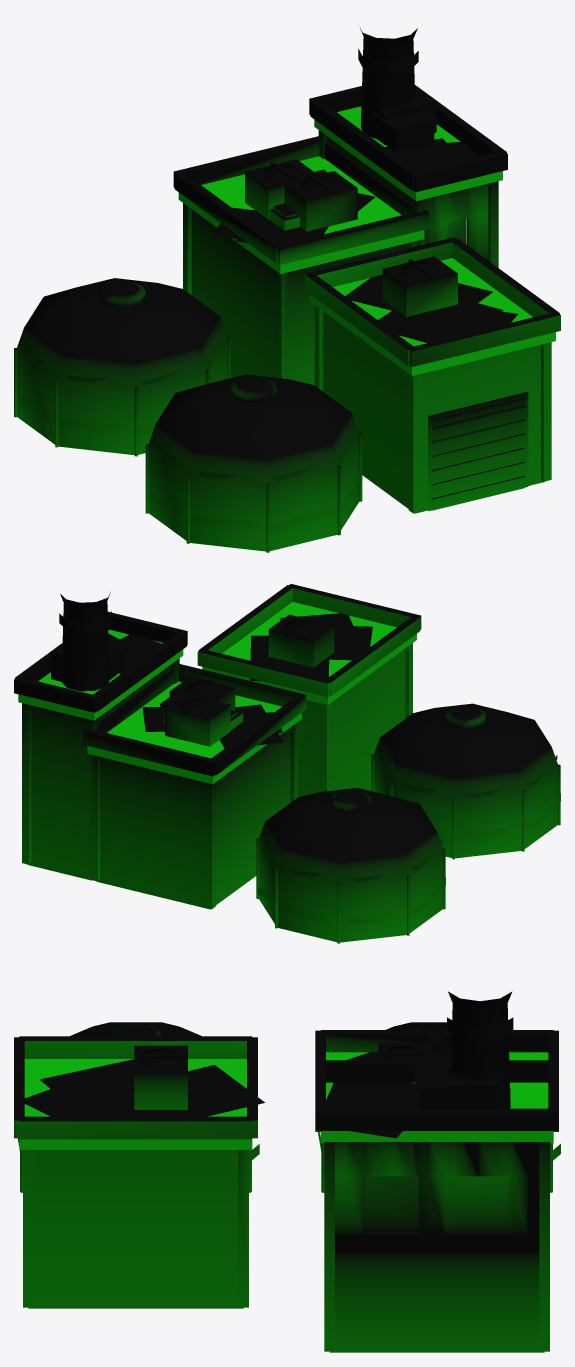
Rendered from purificationplant.glb.
The picture shows the model from 3 angles, top to bottom: view 1: azimuth 30°, elevation 25°; view 2: azimuth 150°, elevation 25°; view 3: azimuth 270°, elevation 25°; orthographic projection. The views are drawn at different scales.
Parts seen in each view (by area): view 1: lod0; view 2: lod0; view 3: lod0.
Boxes of the visible parts, x1,y1,x2,y2 form: lod0: (14,28,560,552); lod0: (14,584,560,943); lod0: (14,991,560,1352).
Size of what is drawn, in the model's own units: 16.21 by 10.6 by 15.25.
